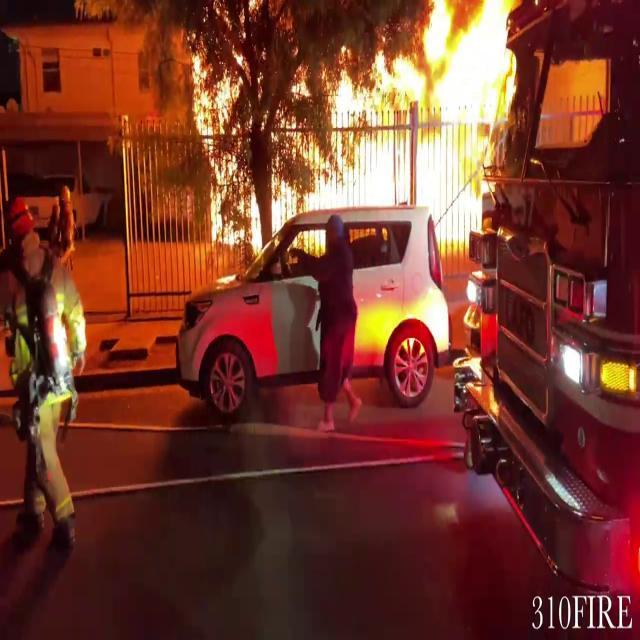Fire: (208, 0, 528, 252)
